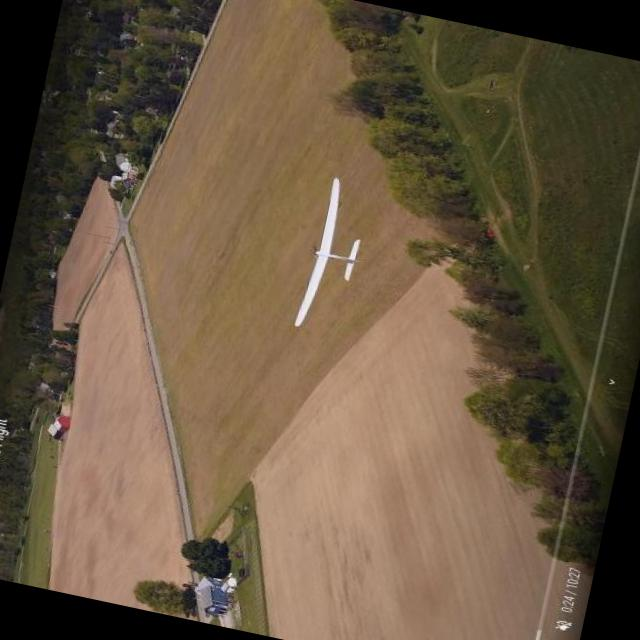UAV: (268, 160, 388, 333)
